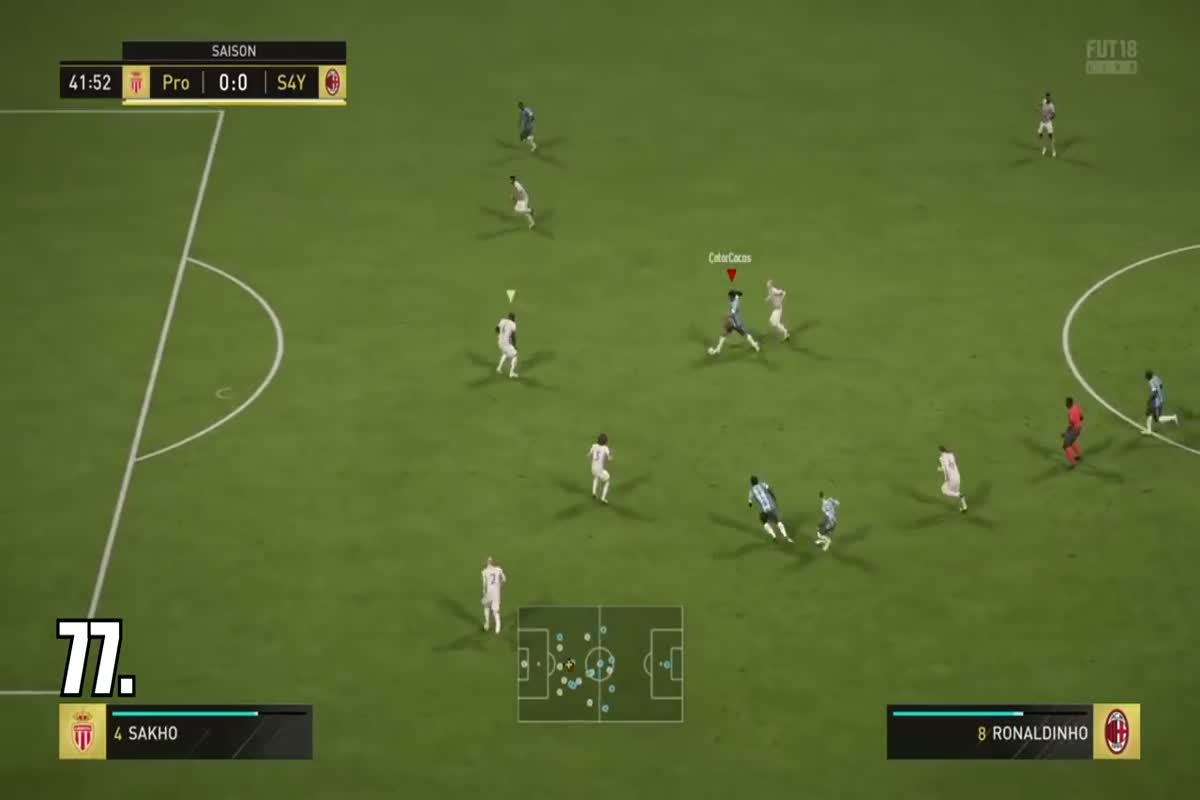ball: (700, 341, 719, 357)
